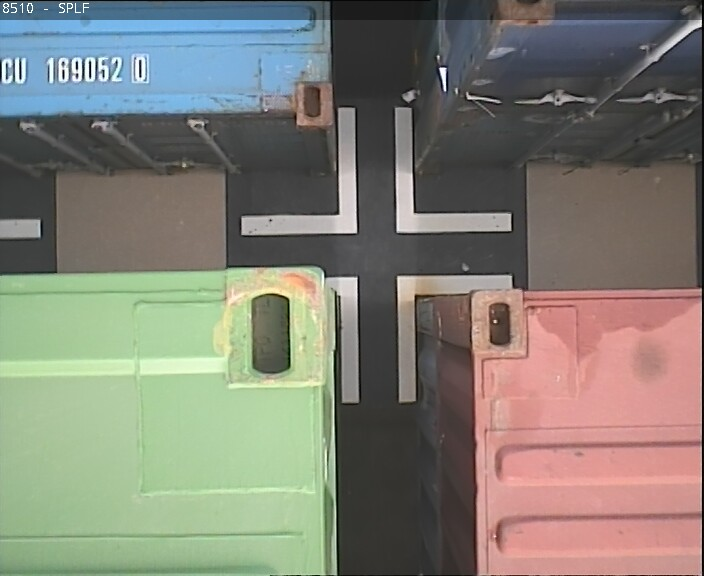groundmarker_1: (239, 106, 514, 236), (323, 277, 515, 402)
